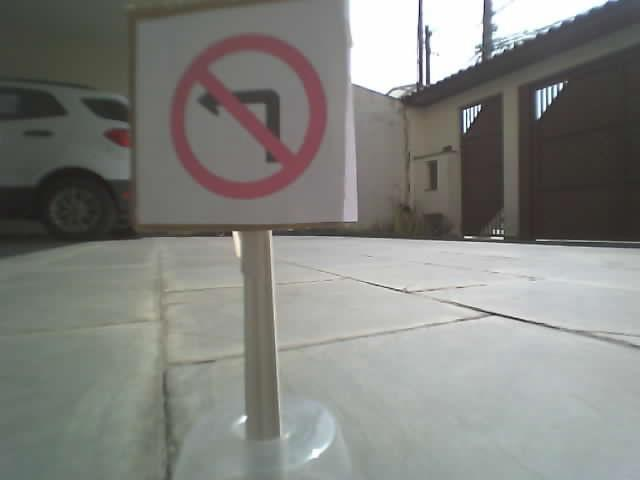R-4a_proibido-esquerda: (170, 32, 329, 199)
